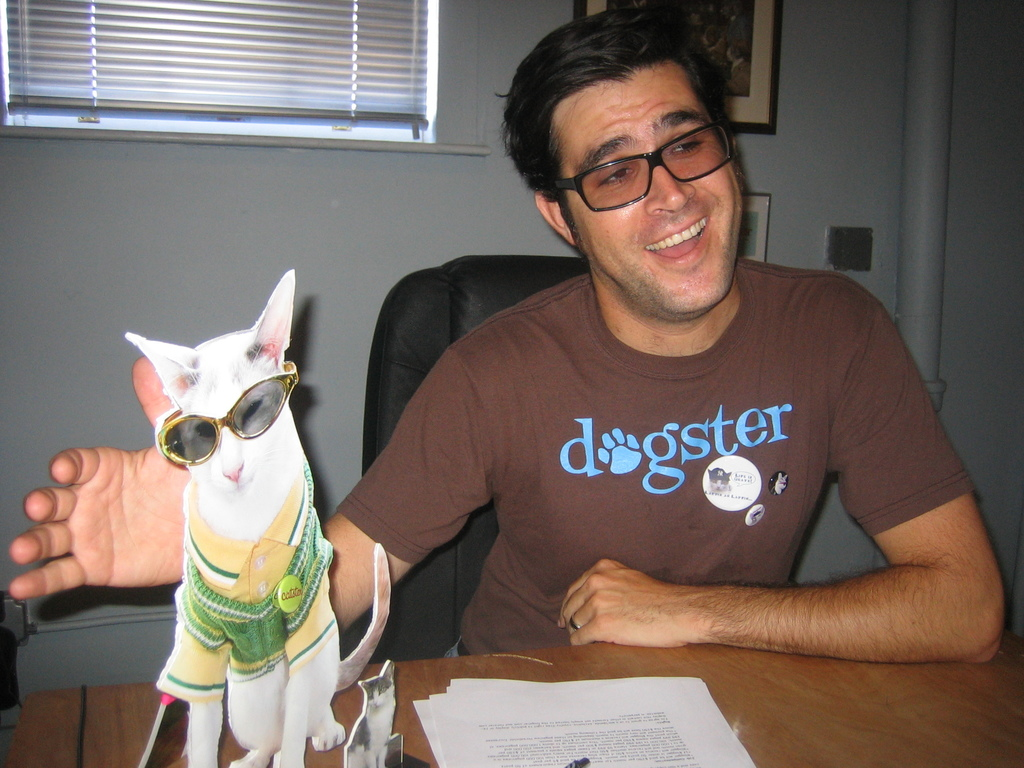Human_hand: (9, 353, 191, 602), (555, 559, 694, 648)
